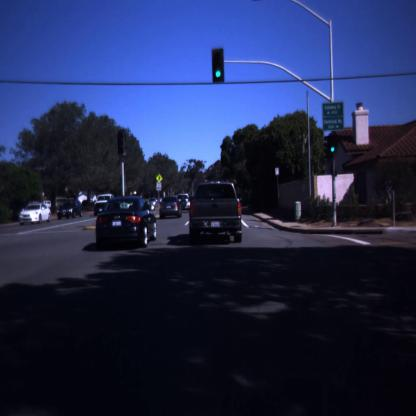trafficlight: (211, 45, 231, 87), (326, 126, 342, 160)
